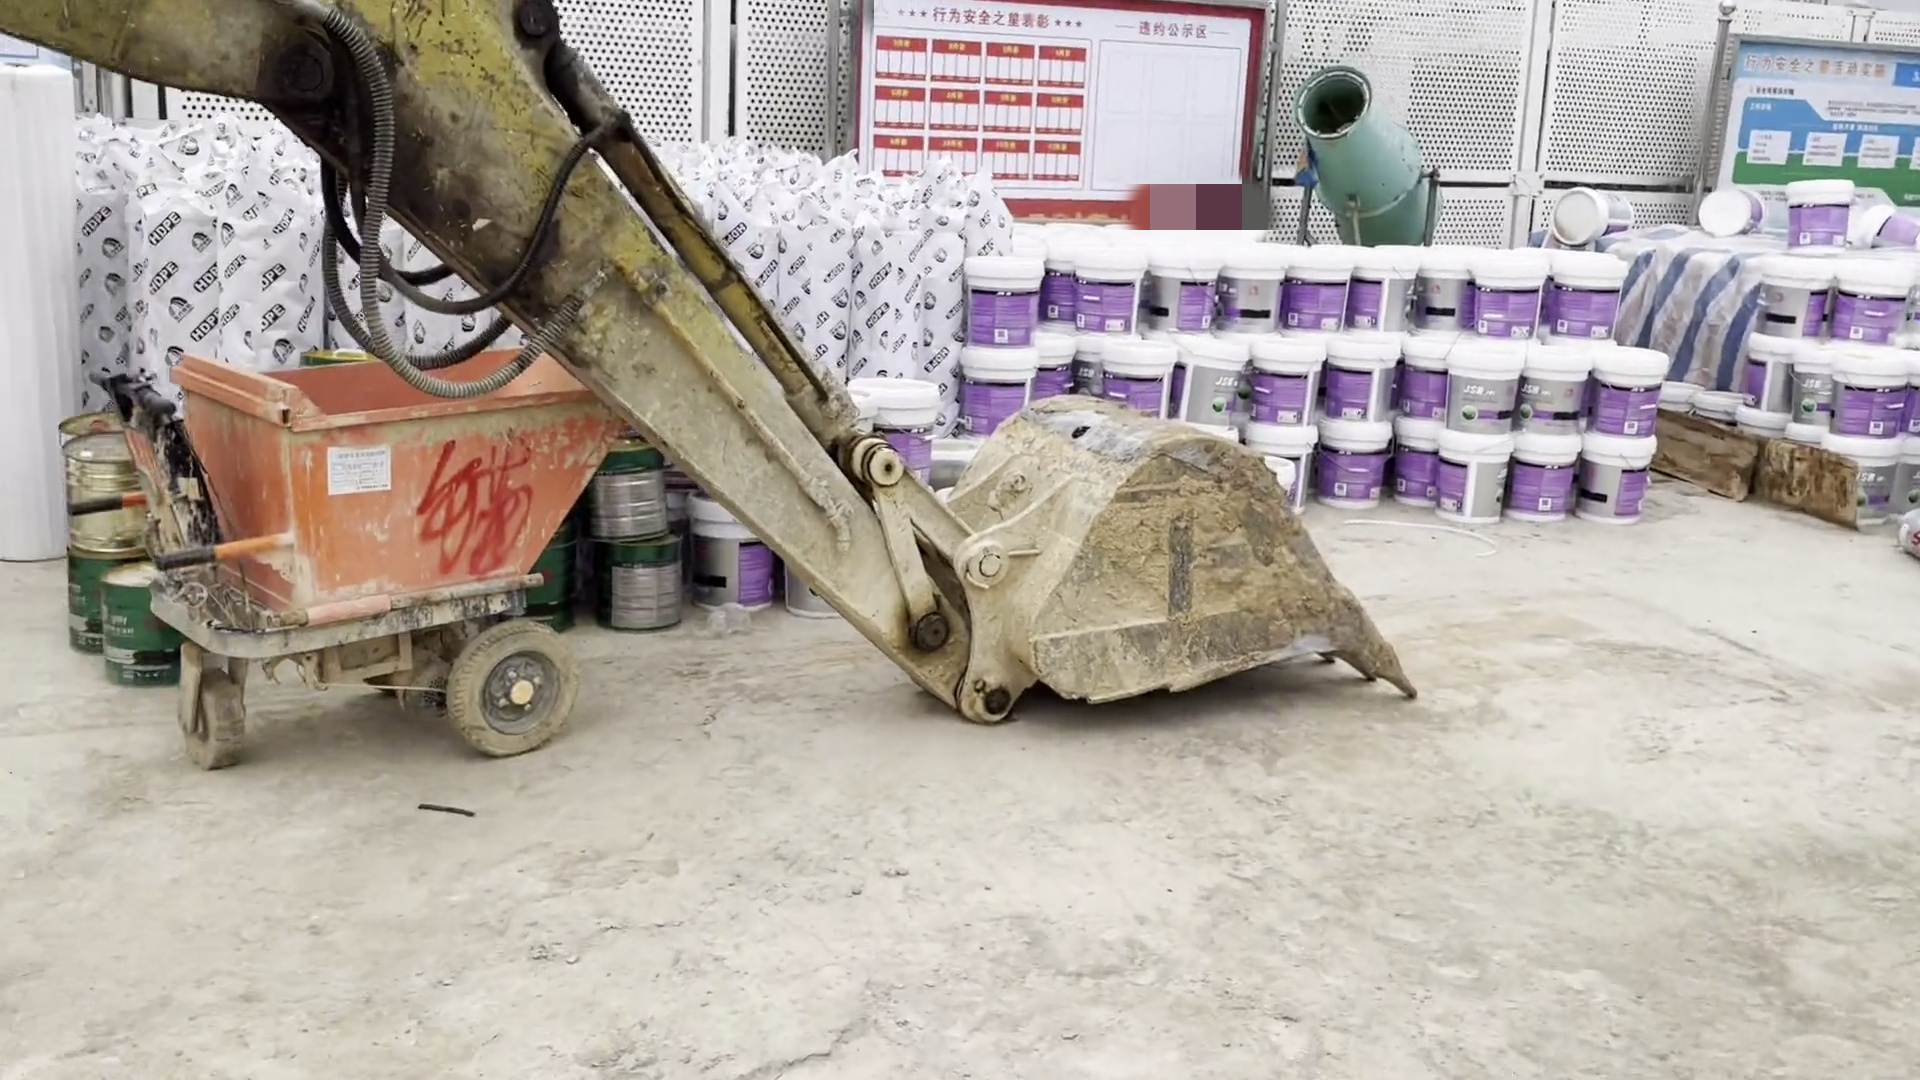hopper: (149, 351, 621, 753)
